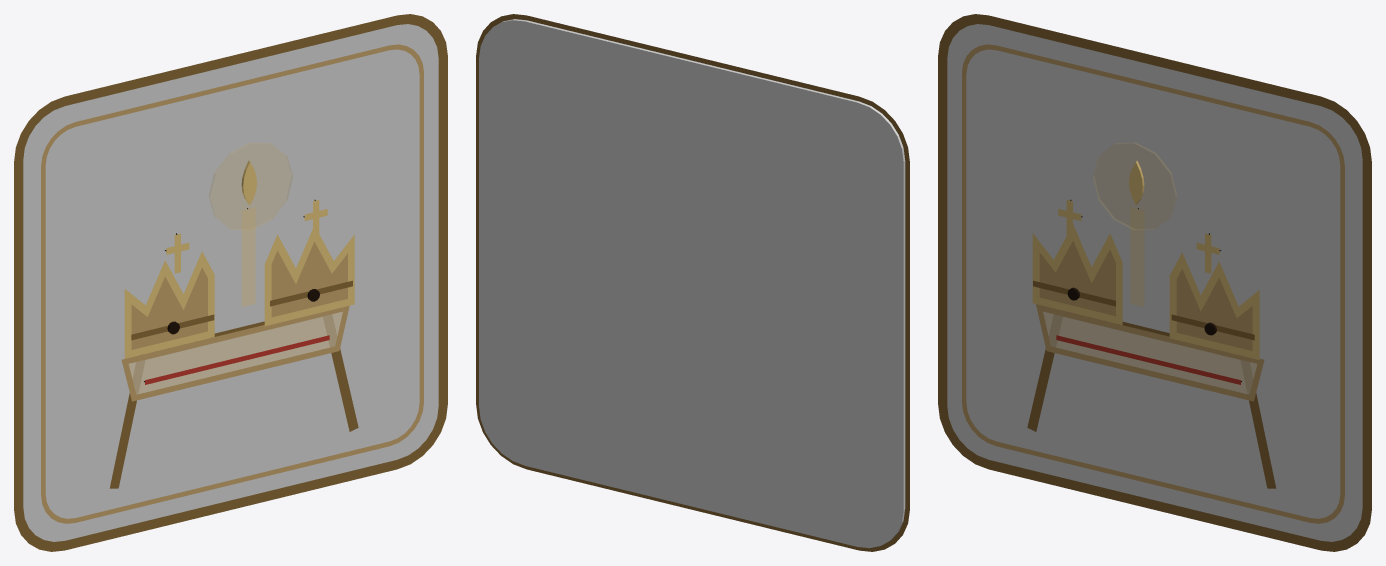
File: obj-ventsy.glb
The picture shows the model from 3 angles, left to right: view 1: azimuth 30°, elevation 25°; view 2: azimuth 150°, elevation 25°; view 3: azimuth 330°, elevation 25°; orthographic projection.
Parts seen in each view (by area): view 1: obj-ventsy; view 2: obj-ventsy; view 3: obj-ventsy.
Part boxes in pixels (x1,y1,x2,y2): obj-ventsy: (14, 14, 447, 551); obj-ventsy: (476, 14, 909, 551); obj-ventsy: (938, 14, 1371, 551).
Bounding box in the file's own units: 0.3917 × 0.3917 × 0.035.
